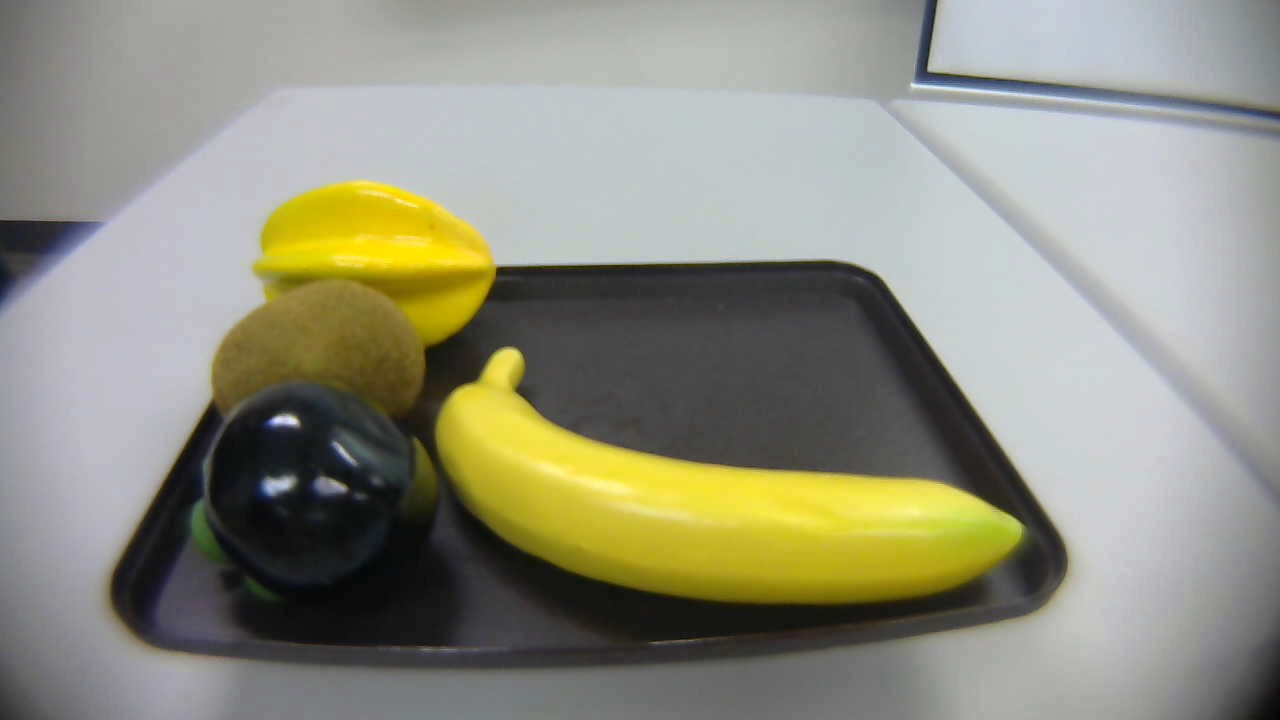banana: (418, 339, 1055, 618)
kiwi fruit: (192, 281, 437, 438)
mangosteen: (169, 381, 445, 604)
star fruit: (255, 181, 507, 368)
